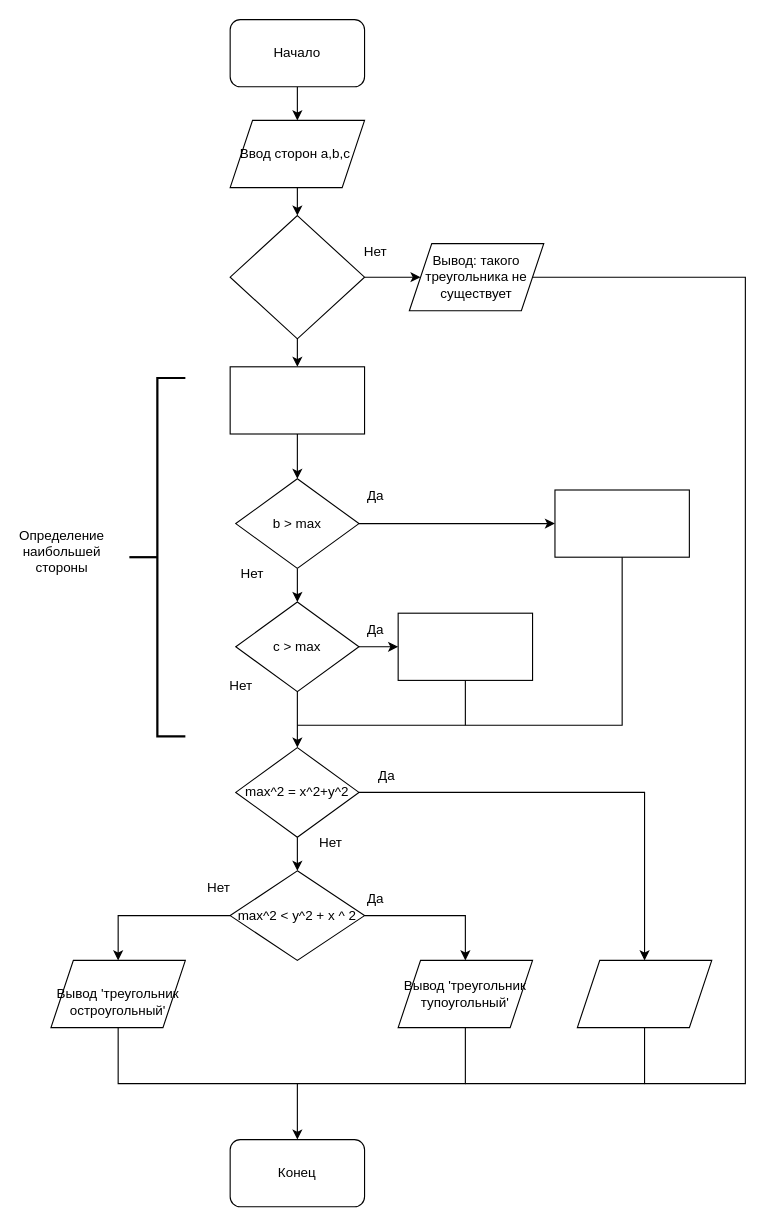
The diagram is 766 pixels wide and 1226 high, and some of its shapes have lost their labels. Here are the shapes that lost their labels. From the top down, the box of each, then its label:
(229, 214, 365, 339): a + b > c, a + c > b, b + c > a
(229, 366, 365, 434): max = a, b,c = x,y
(554, 489, 689, 557): max = b, a,c = x,y
(397, 612, 533, 680): max = c, a,b = x,y
(576, 959, 712, 1028): Вывод 'треугольник прямоугольный'
